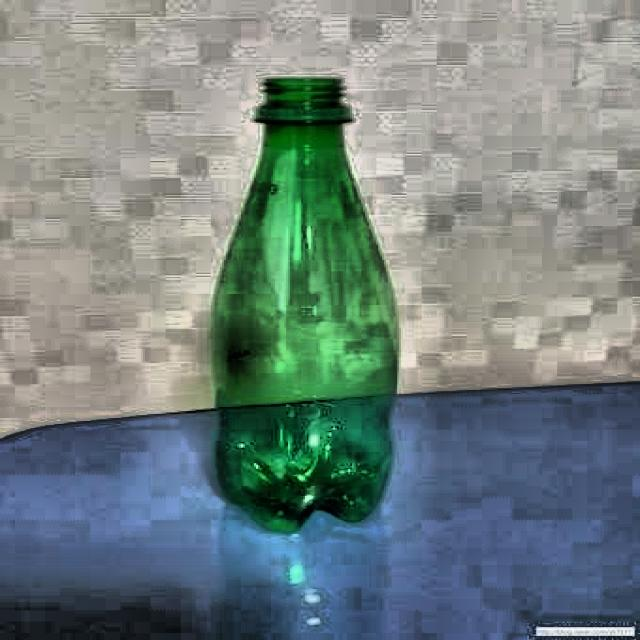Bottles: (196, 67, 425, 548)
